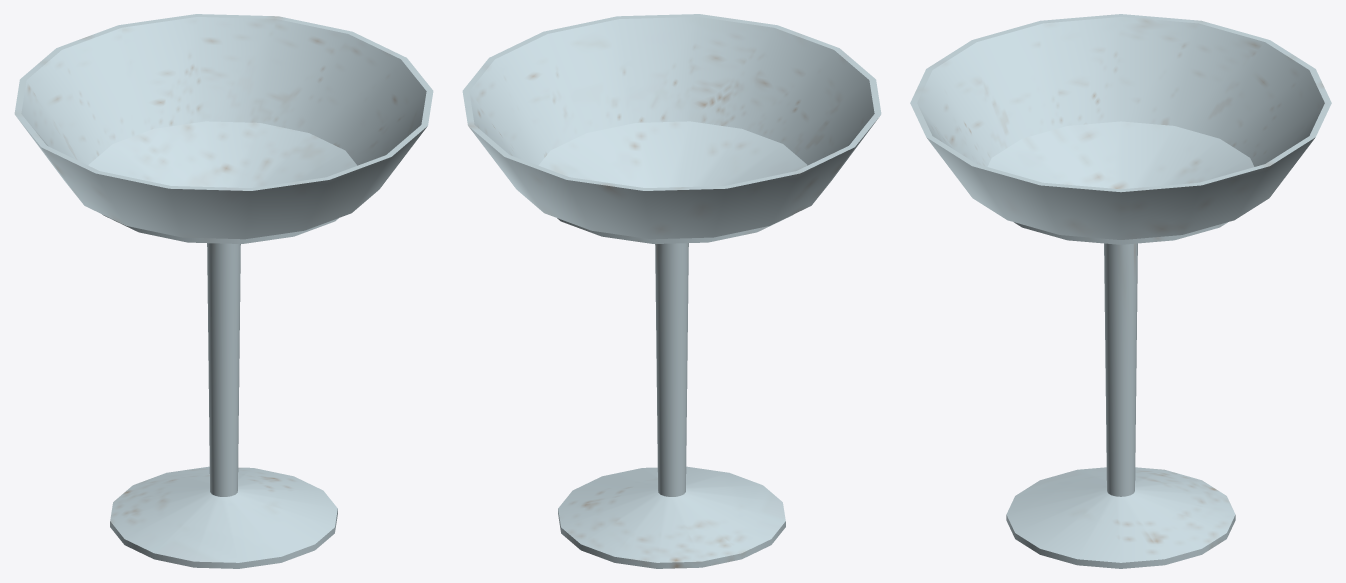
The model's file is MartiniGlass.fbx.
3 renders of one model, left to right at view 1: azimuth 30°, elevation 25°; view 2: azimuth 150°, elevation 25°; view 3: azimuth 270°, elevation 25°, orthographic.
Visible parts, largest first — view 1: martiniglass; view 2: martiniglass; view 3: martiniglass.
Part boxes in pixels (left/top/right/bottom): martiniglass: left=14, top=14, right=433, bottom=568; martiniglass: left=462, top=14, right=881, bottom=568; martiniglass: left=910, top=14, right=1331, bottom=568.
Bounding box in the file's own units: 0.3434 × 0.375 × 0.3434.
